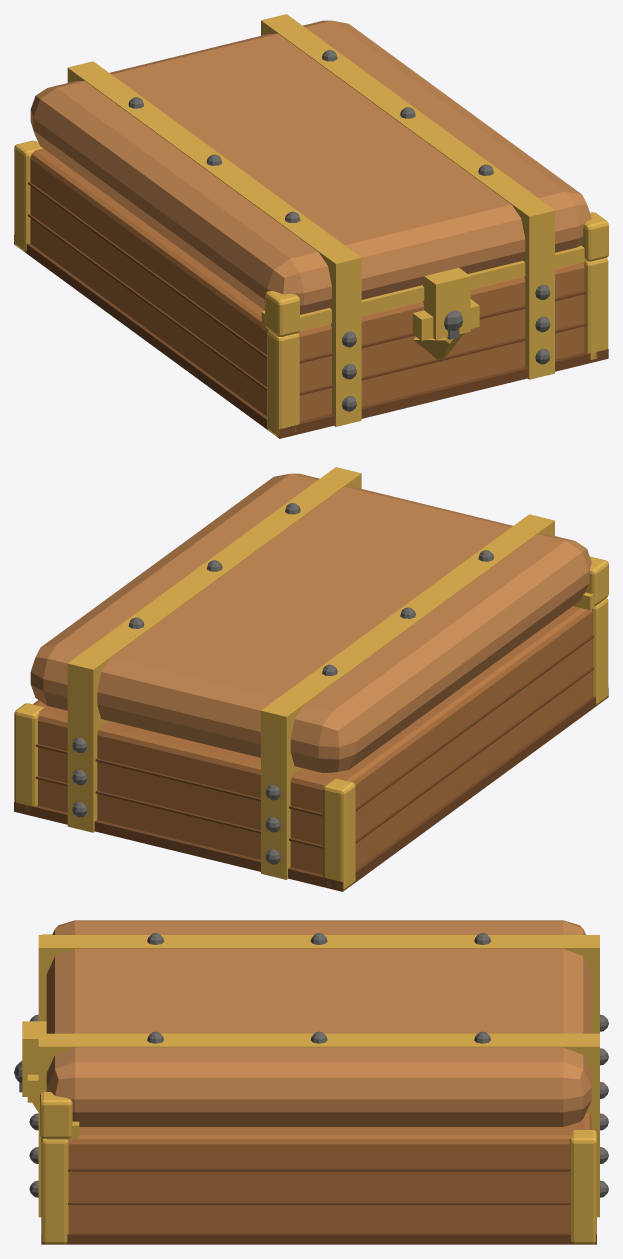
Rendered from chest_l.glb.
3 views of the same model, one above another, from view 1: azimuth 30°, elevation 25°; view 2: azimuth 150°, elevation 25°; view 3: azimuth 270°, elevation 25° (orthographic). The views are drawn at different scales.
Visible parts, largest first — view 1: Lid, ChestL; view 2: Lid, ChestL; view 3: Lid, ChestL.
Boxes of the visible parts, x1=… form: Lid: x1=30, y1=14, x2=608, y2=339; ChestL: x1=14, y1=140, x2=608, y2=438; Lid: x1=30, y1=467, x2=608, y2=779; ChestL: x1=14, y1=598, x2=608, y2=891; Lid: x1=22, y1=920, x2=599, y2=1139; ChestL: x1=14, y1=1012, x2=608, y2=1244.
Bounding box in the file's own units: 5.14 × 2.53 × 7.64.
